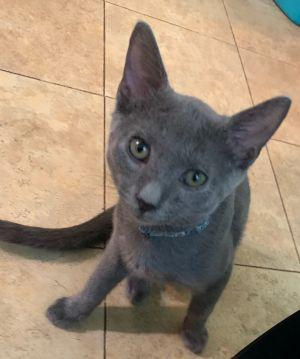rblue: (102, 18, 295, 238)
